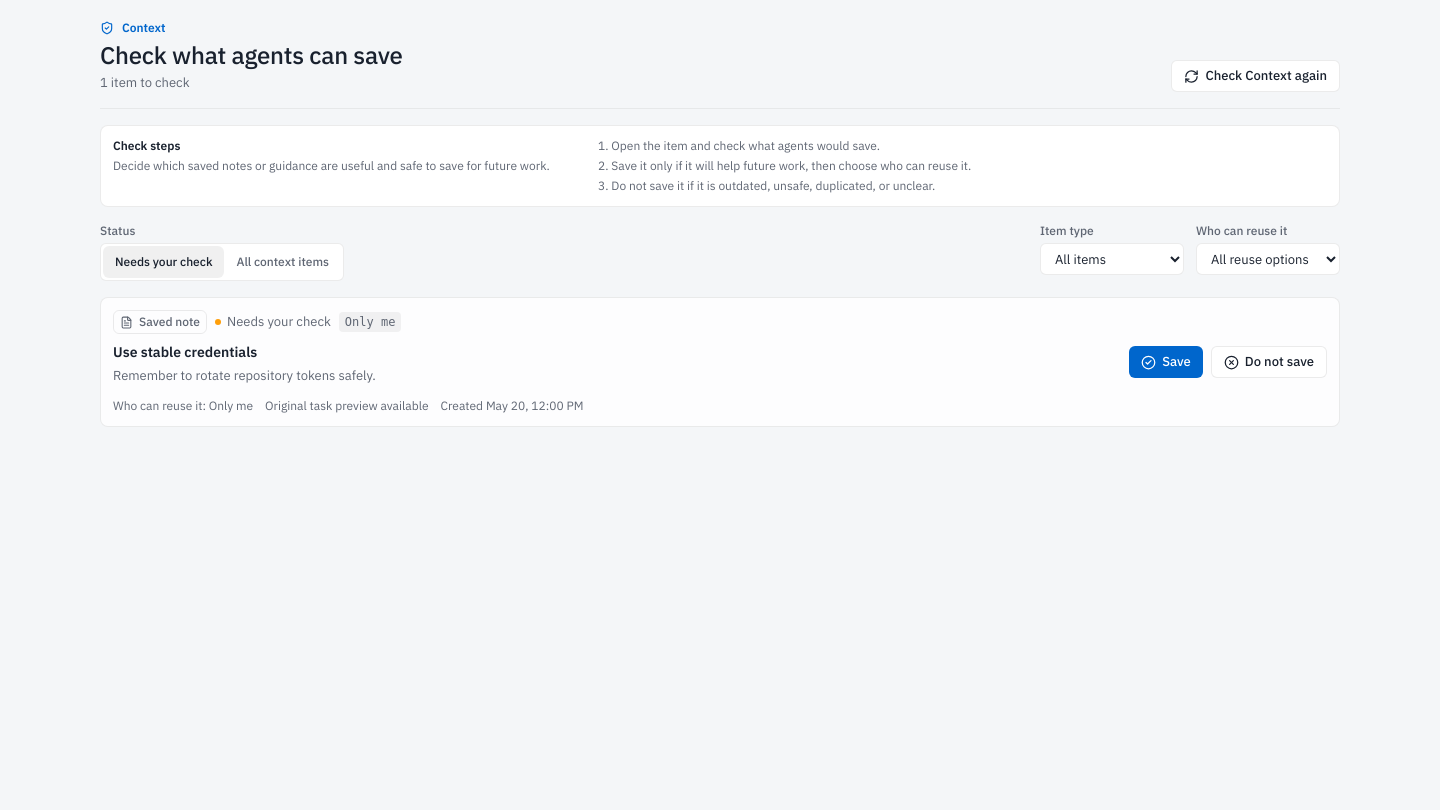
Test: ApprovalQueueView › guides operators through approval decisions and the approve panel
Expected: the element with test id "context-approval-path" is shown, [100,125,1340,207]
Expected: the heading "Check what agents can save" is shown, [100,40,403,70]
Click the button with test id "context-approve-candidate-1" at (1166, 362), box [1129,346,1203,378]
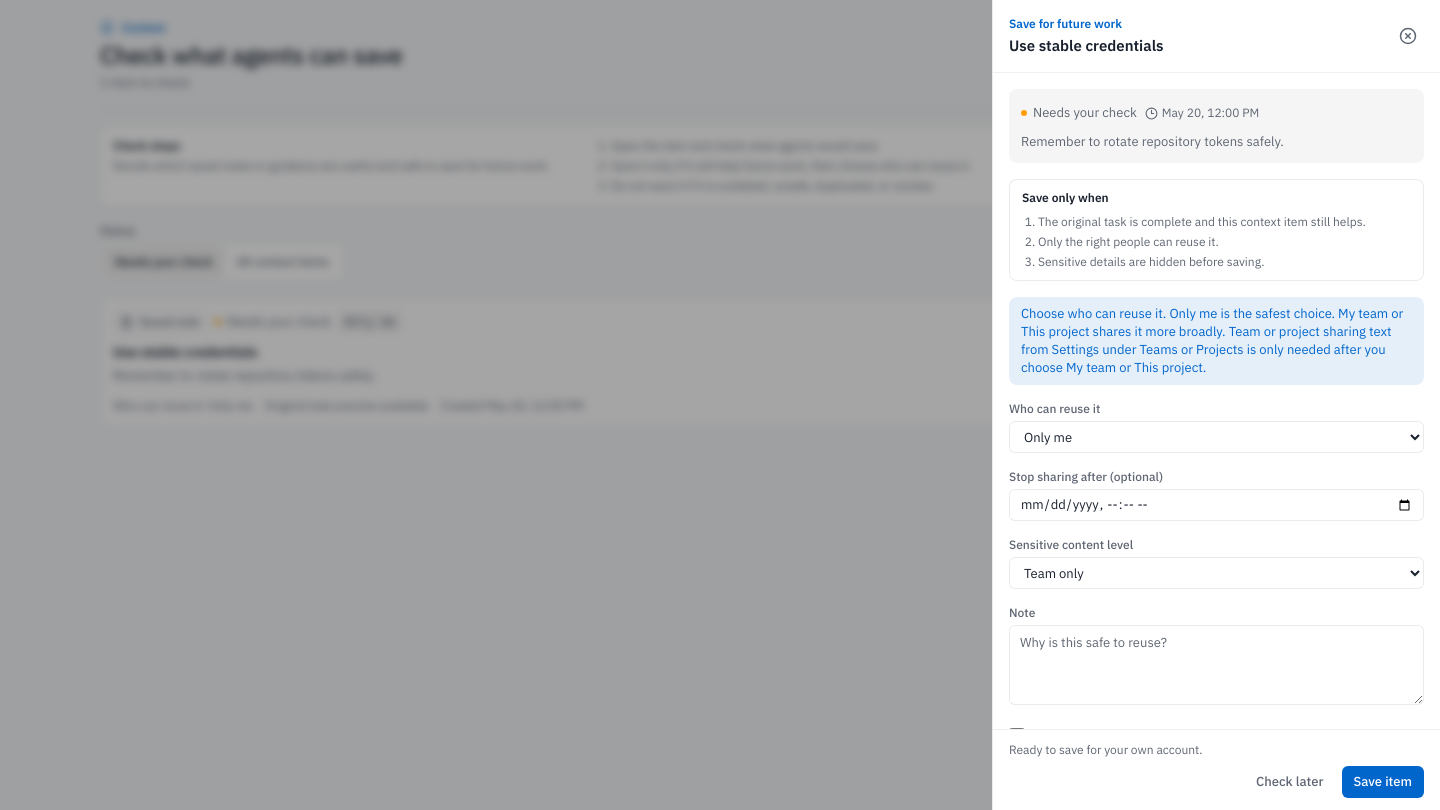
Expected: the element with test id "context-decision-checklist" is shown, [1009,179,1424,281]
Expected: the text "Save only when" is shown, [1022,190,1109,205]
Expected: the list item "this context item still helps" is shown, [1038,214,1366,229]
Select "My team" in the dropdown with test id "context-approval-scope-kind" at (1216, 437), box [1009,421,1424,453]
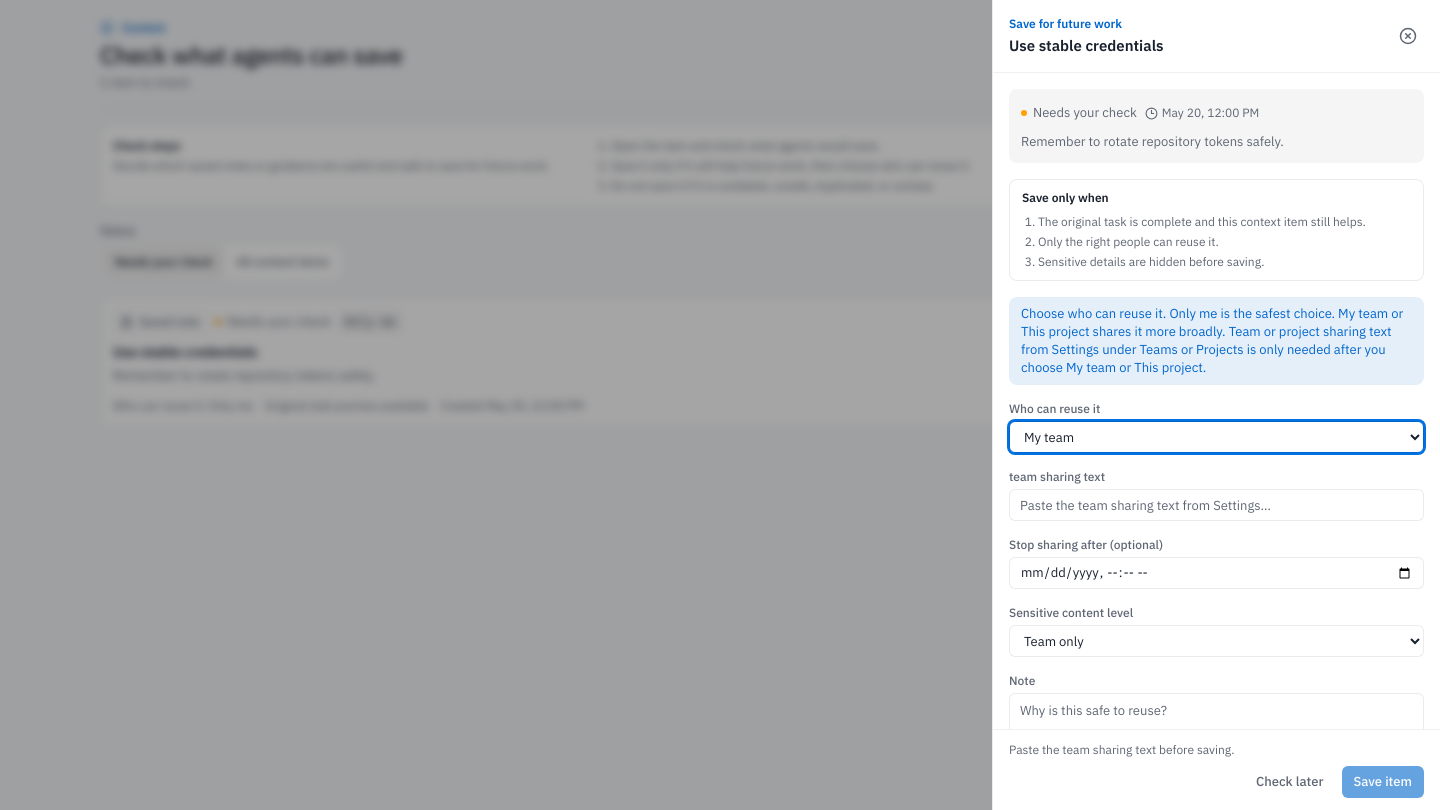
Expected: the text "team sharing text" is shown, [1009,469,1105,484]
Expected: the field with placeholder "Paste the team sharing text from Settings…" is shown, [1009,489,1424,521]
Expected: the text "Paste the team sharing text before saving." is shown, [1009,742,1234,757]
